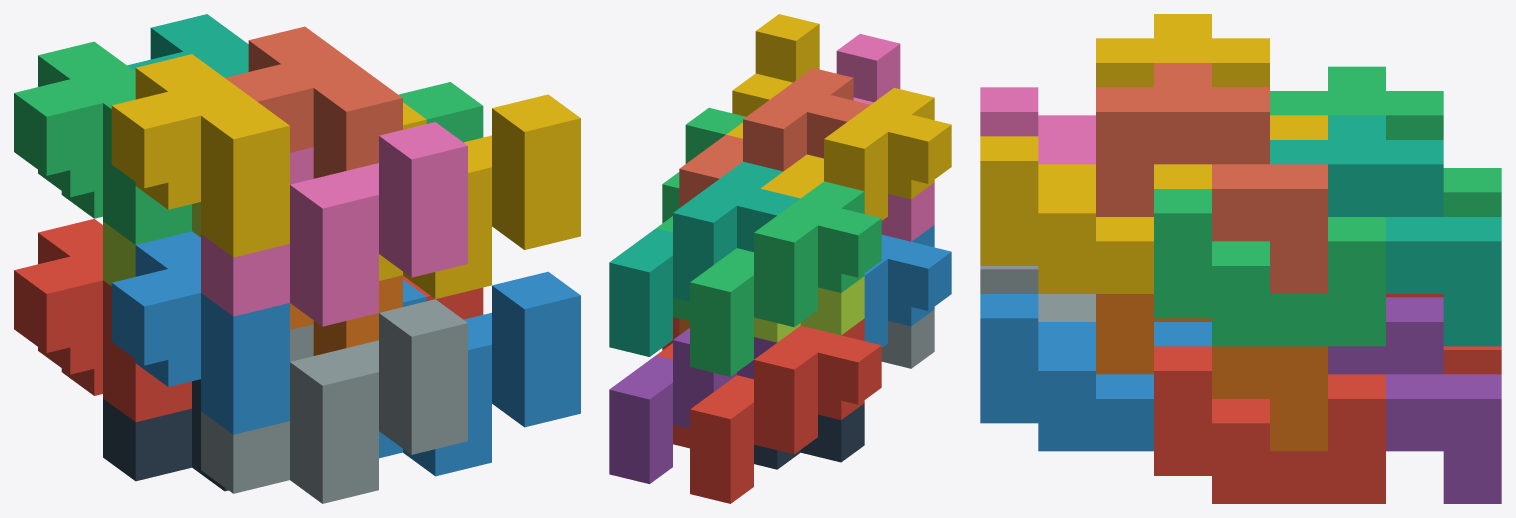
The model's file is tiling.obj.
The picture shows the model from 3 angles, left to right: view 1: azimuth 30°, elevation 25°; view 2: azimuth 150°, elevation 25°; view 3: azimuth 270°, elevation 25°; orthographic projection. The views are drawn at different scales.
Parts seen in each view (by area): view 1: copy_2_domain_2, copy_2_domain_4, copy_1_domain_4, copy_1_domain_2, copy_2_domain_6, copy_2_domain_8, copy_1_domain_3, copy_1_domain_1, copy_1_domain_8, copy_2_domain_1, copy_1_domain_7, copy_1_domain_6 (+3 smaller); view 2: copy_1_domain_3, copy_1_domain_1, copy_1_domain_7, copy_1_domain_4, copy_1_domain_8, copy_1_domain_5, copy_1_domain_2, copy_2_domain_4, copy_2_domain_8, copy_2_domain_7, copy_2_domain_1, copy_2_domain_3 (+2 smaller); view 3: copy_1_domain_8, copy_2_domain_7, copy_2_domain_5, copy_1_domain_7, copy_2_domain_6, copy_2_domain_8, copy_1_domain_5, copy_1_domain_6, copy_1_domain_4, copy_1_domain_3, copy_2_domain_4, copy_2_domain_2 (+1 smaller).
Part boxes in pixels (x1,y1,x2,y2): copy_2_domain_2: [201, 299, 467, 503]; copy_2_domain_4: [201, 122, 467, 326]; copy_1_domain_4: [111, 54, 289, 257]; copy_1_domain_2: [111, 231, 289, 434]; copy_2_domain_6: [379, 271, 580, 476]; copy_2_domain_8: [379, 94, 580, 298]; copy_1_domain_3: [14, 41, 191, 244]; copy_1_domain_1: [14, 219, 191, 422]; copy_1_domain_8: [225, 26, 402, 178]; copy_2_domain_1: [103, 379, 228, 491]; copy_1_domain_7: [127, 14, 248, 77]; copy_1_domain_6: [290, 275, 402, 355]; copy_1_domain_3: [690, 181, 881, 376]; copy_1_domain_1: [690, 318, 881, 503]; copy_1_domain_7: [609, 161, 800, 356]; copy_1_domain_4: [760, 87, 951, 220]; copy_1_domain_8: [679, 68, 870, 207]; copy_1_domain_5: [609, 328, 776, 483]; copy_1_domain_2: [864, 225, 951, 347]; copy_2_domain_4: [836, 34, 934, 241]; copy_2_domain_8: [726, 14, 819, 138]; copy_2_domain_7: [656, 107, 745, 321]; copy_2_domain_1: [754, 403, 864, 469]; copy_2_domain_3: [754, 276, 864, 342]; copy_1_domain_8: [1096, 63, 1327, 293]; copy_2_domain_7: [1154, 189, 1385, 346]; copy_2_domain_5: [1154, 346, 1385, 503]; copy_1_domain_7: [1270, 115, 1501, 346]; copy_2_domain_6: [980, 294, 1211, 451]; copy_2_domain_8: [980, 136, 1211, 293]; copy_1_domain_5: [1328, 297, 1501, 503]; copy_1_domain_6: [1096, 294, 1327, 451]; copy_1_domain_4: [1096, 14, 1327, 139]; copy_1_domain_3: [1270, 66, 1501, 216]; copy_2_domain_4: [980, 87, 1095, 164]; copy_2_domain_2: [980, 266, 1095, 321].
Bounding box in the file's own units: 6 × 7 × 9.
